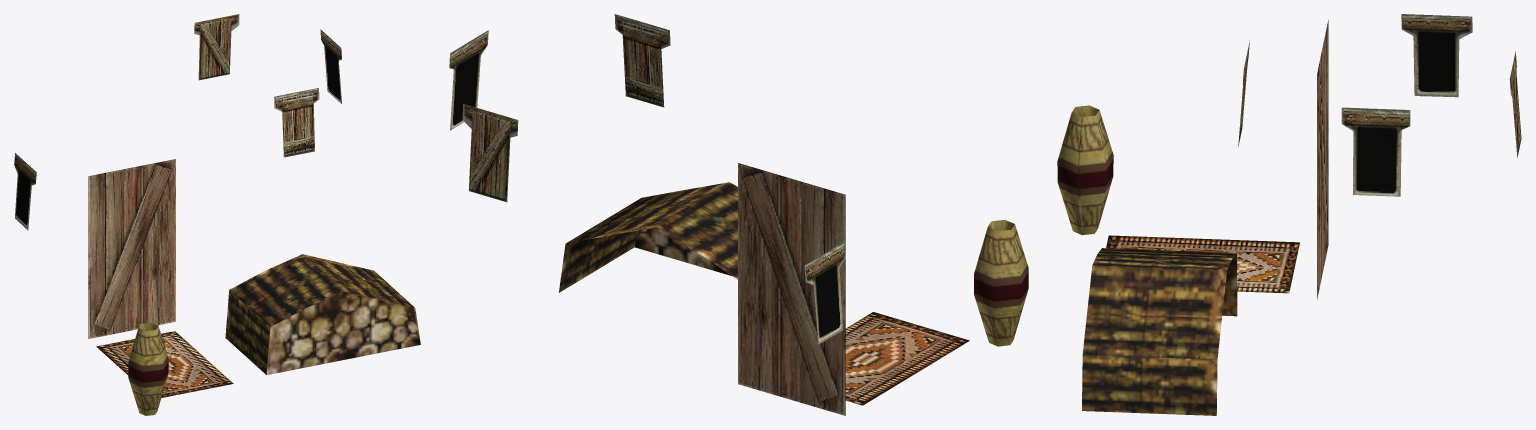
Rendered from iber_house_a_2.dae.
The picture shows the model from 3 angles, left to right: view 1: azimuth 30°, elevation 25°; view 2: azimuth 150°, elevation 25°; view 3: azimuth 270°, elevation 25°; orthographic projection. The views are drawn at different scales.
Visible parts, largest first — view 1: Object1002; view 2: Object1002; view 3: Object1002.
Part boxes in pixels (left/top/right/bottom): Object1002: left=14, top=14, right=420, bottom=415; Object1002: left=449, top=14, right=1028, bottom=415; Object1002: left=1057, top=14, right=1521, bottom=415.
Bounding box in the file's own units: 7.92 × 7.38 × 5.54.
